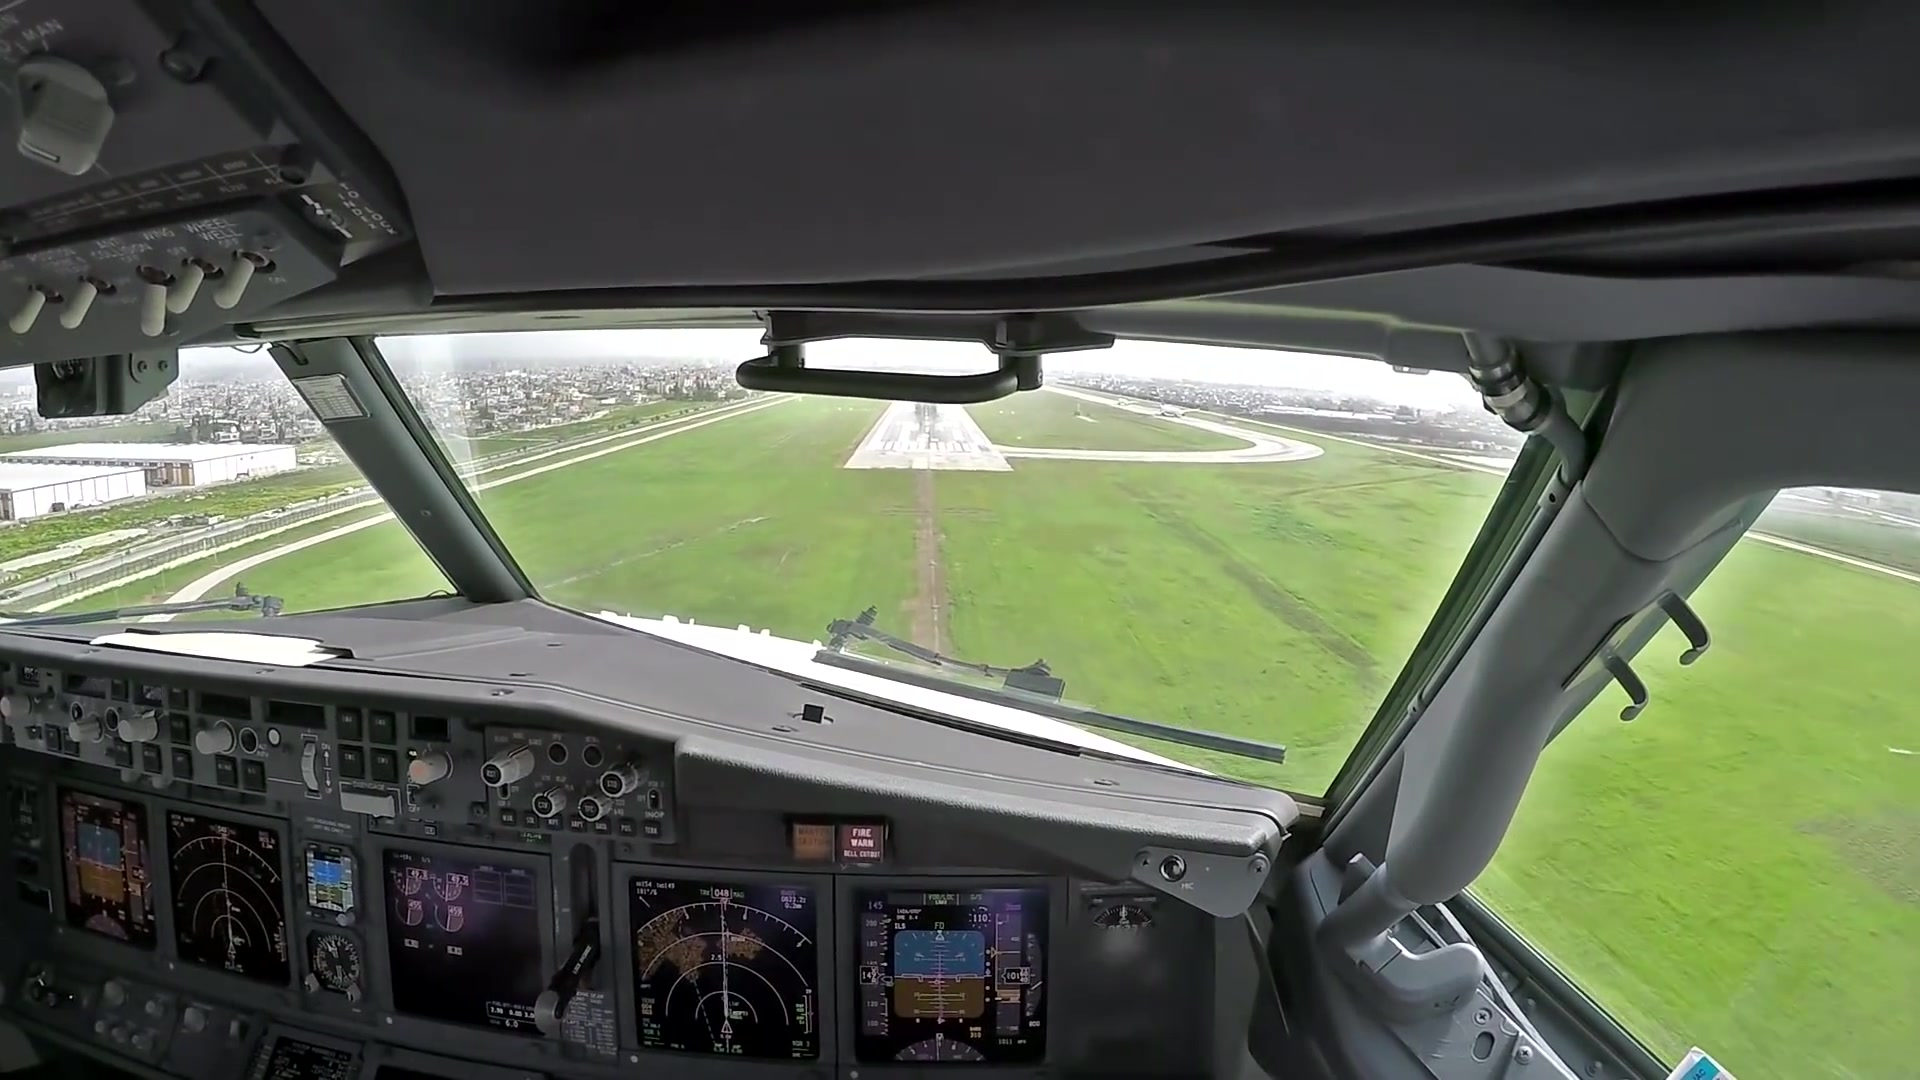entrance: (862, 438, 986, 458)
runway: (843, 404, 1014, 472)
